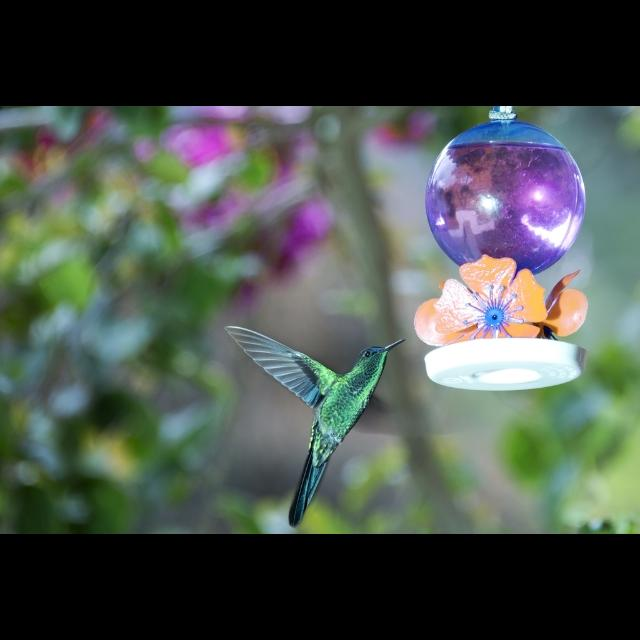Flower: (434, 256, 548, 340), (412, 280, 476, 346), (536, 268, 588, 342)
